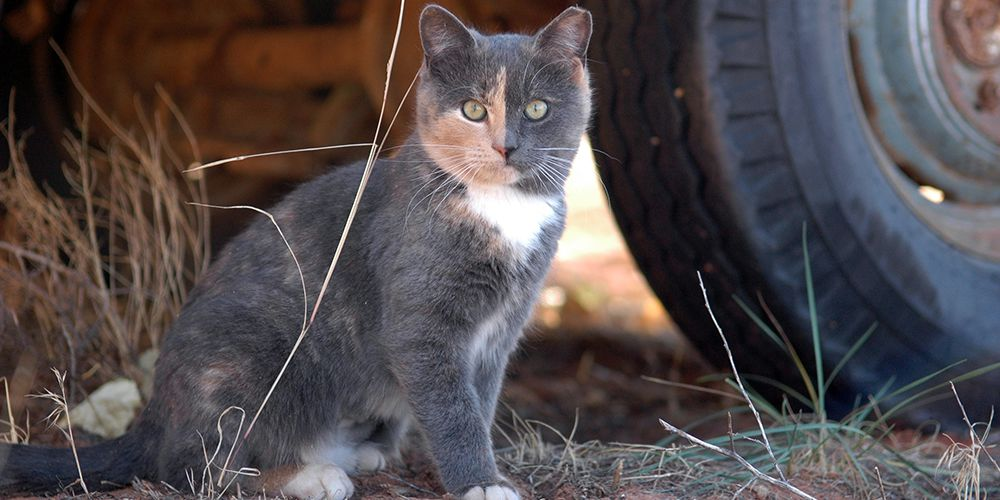cat: (88, 4, 592, 500)
